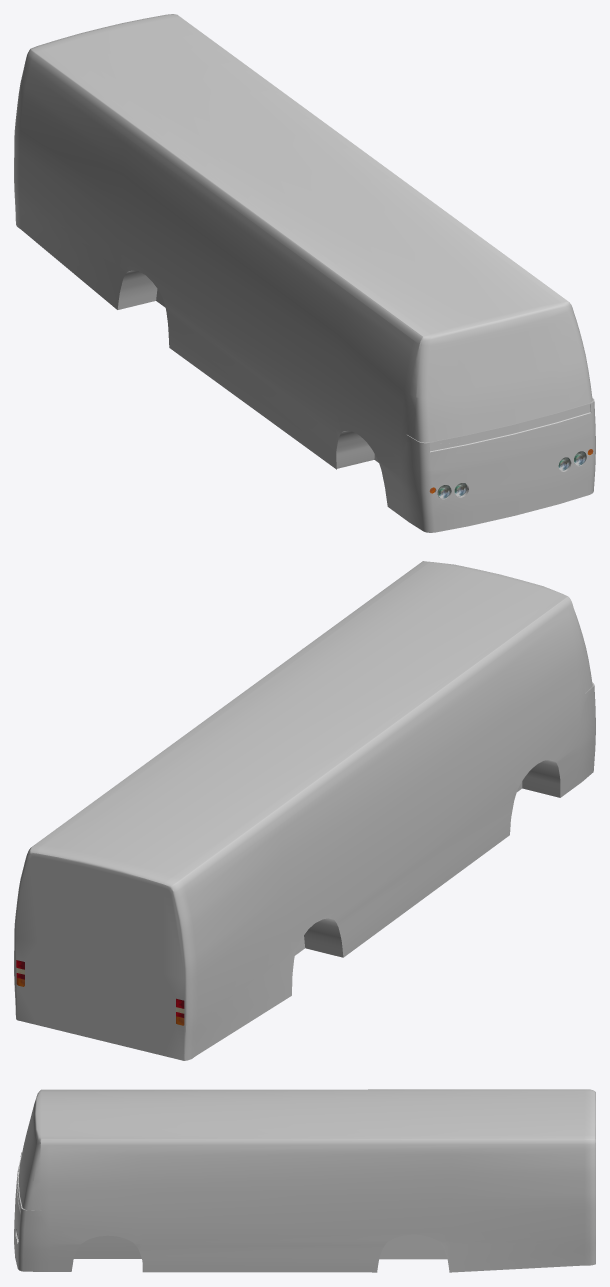
3 renders of one model, top to bottom at view 1: azimuth 30°, elevation 25°; view 2: azimuth 150°, elevation 25°; view 3: azimuth 270°, elevation 25°, orthographic. The views are drawn at different scales.
Visible parts, largest first — view 1: K2_Body; view 2: K2_Body; view 3: K2_Body.
Boxes of the visible parts, box(x1,y1,x2,y2) form: K2_Body: box(14, 14, 595, 532); K2_Body: box(14, 561, 595, 1060); K2_Body: box(14, 1089, 595, 1272).
Size of what is drawn, in the model's own units: 333 by 1337 by 332.
